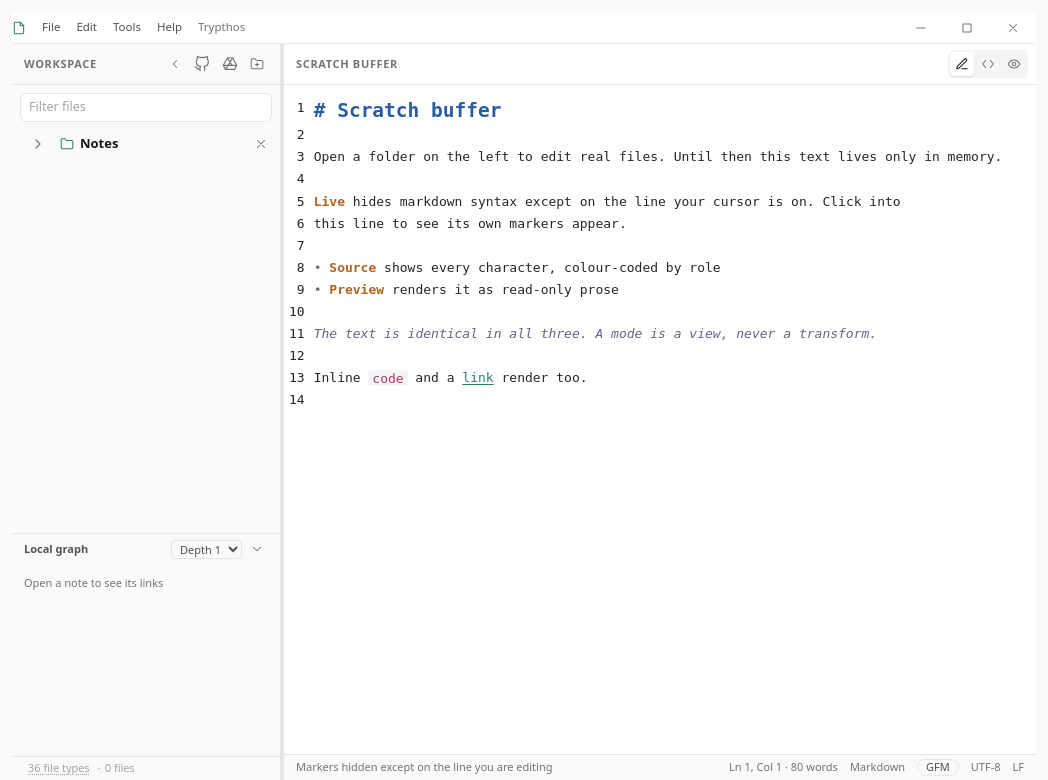
Test: App › open files › closes the document you are in with the keyboard
Click the button named "Expand Notes" at (38, 144), box top-left (16, 130), bottom-right (60, 157)
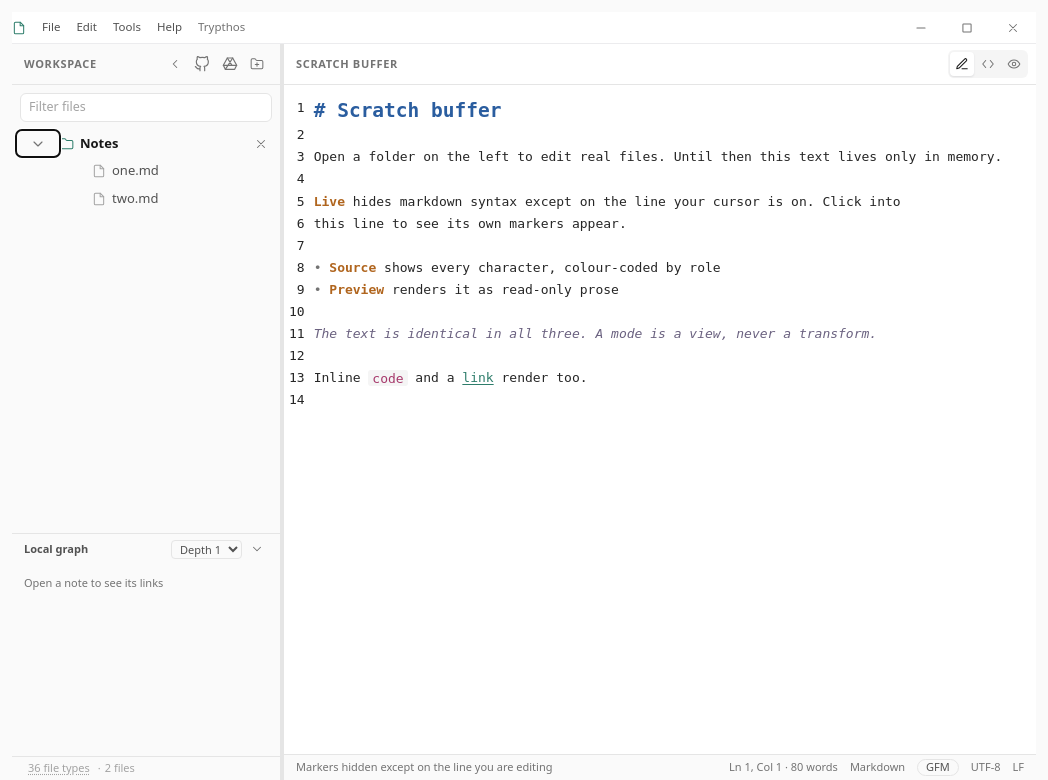
Expected: the button "one.md" is shown
Click the button "one.md" at (146, 171), box top-left (16, 157), bottom-right (276, 185)
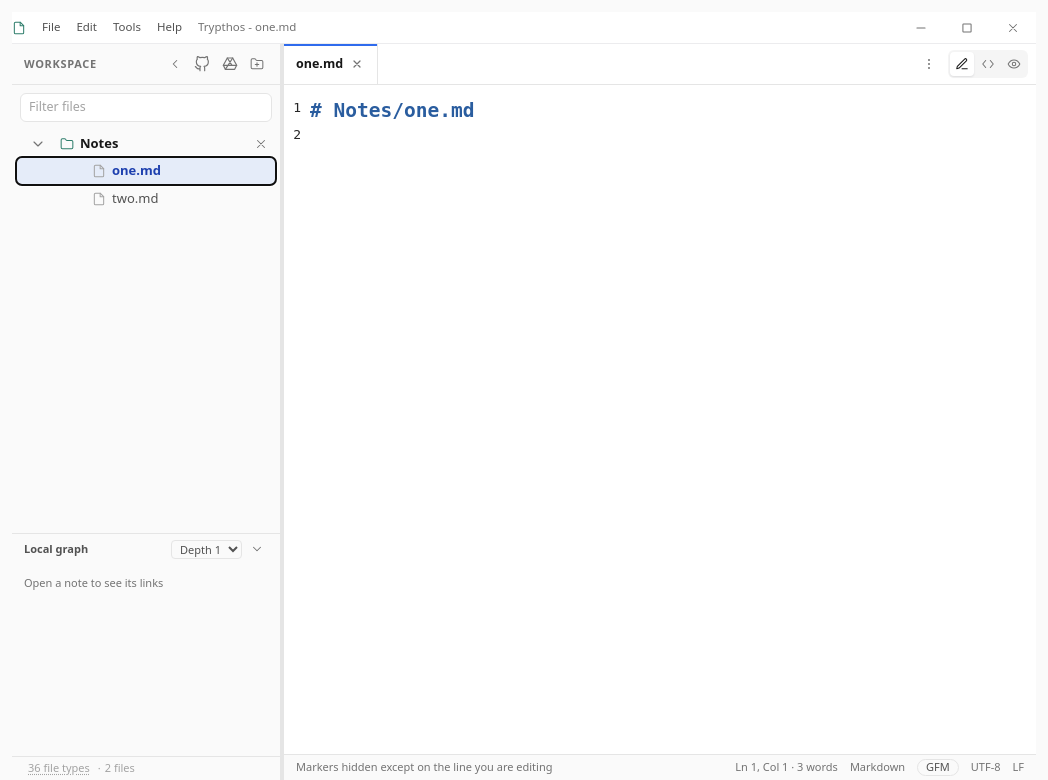
Click the button "two.md" at (146, 199), box top-left (16, 185), bottom-right (276, 212)
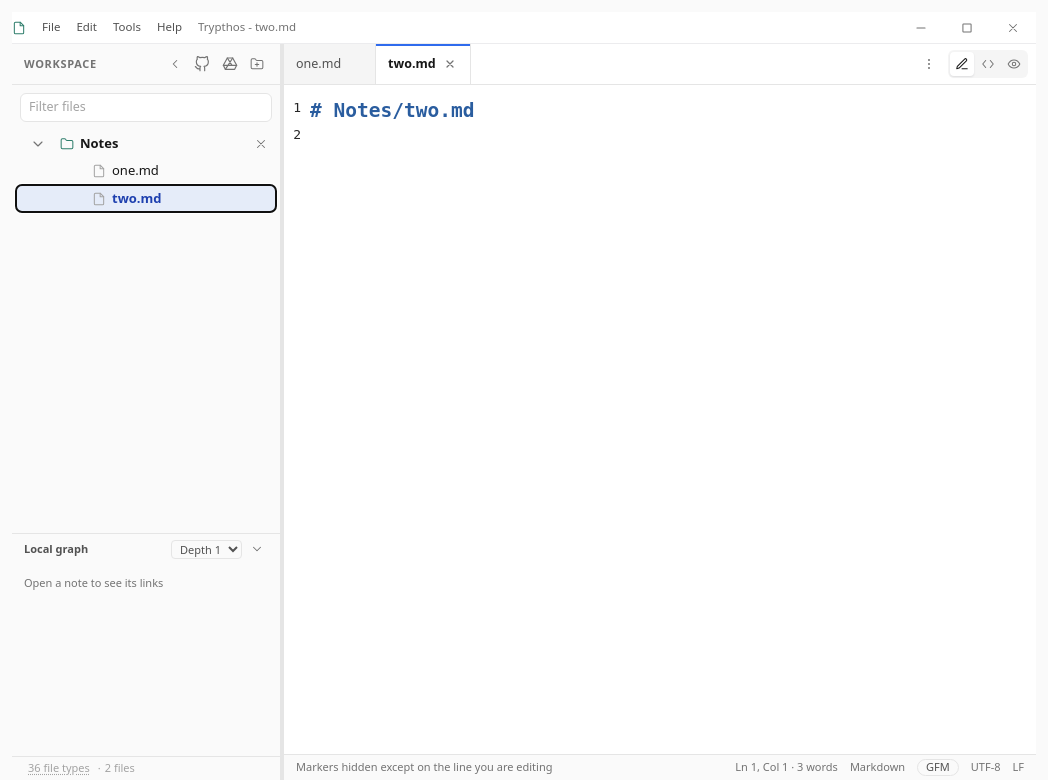
Type keys "{Control>}w{/Control}"
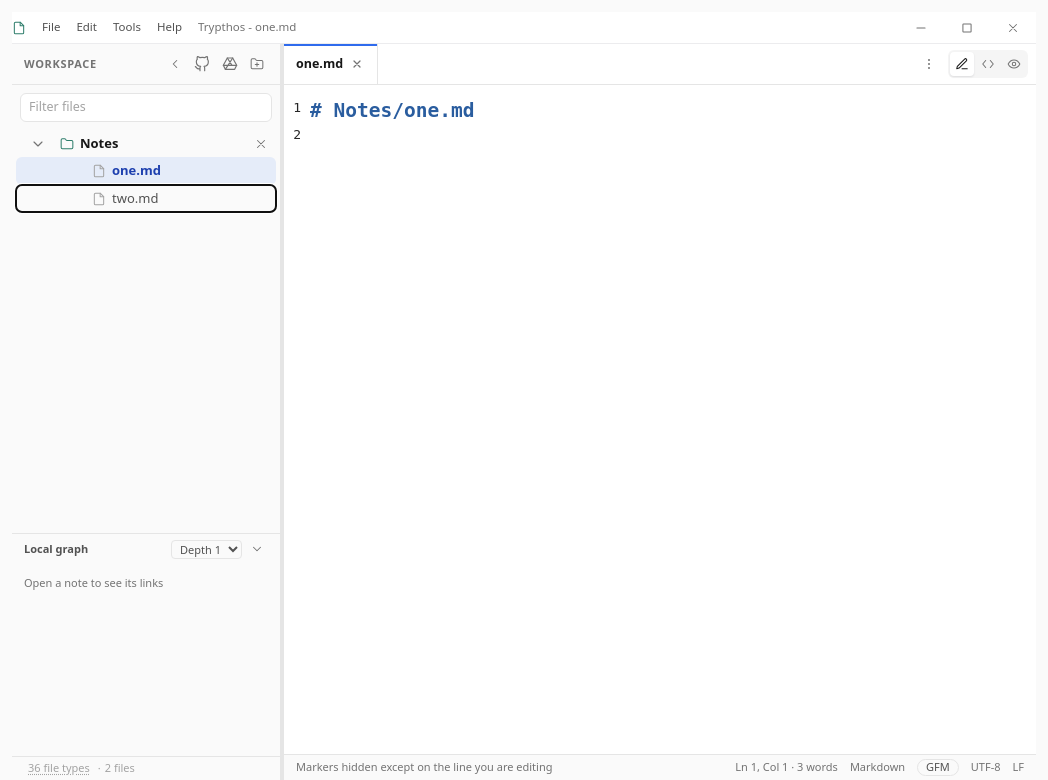
Expected: the tabs read "one.md", in this order, top-left (284, 44), bottom-right (378, 84)
